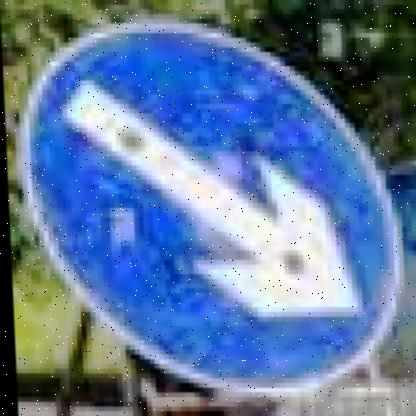Keep right: (12, 21, 416, 403)
